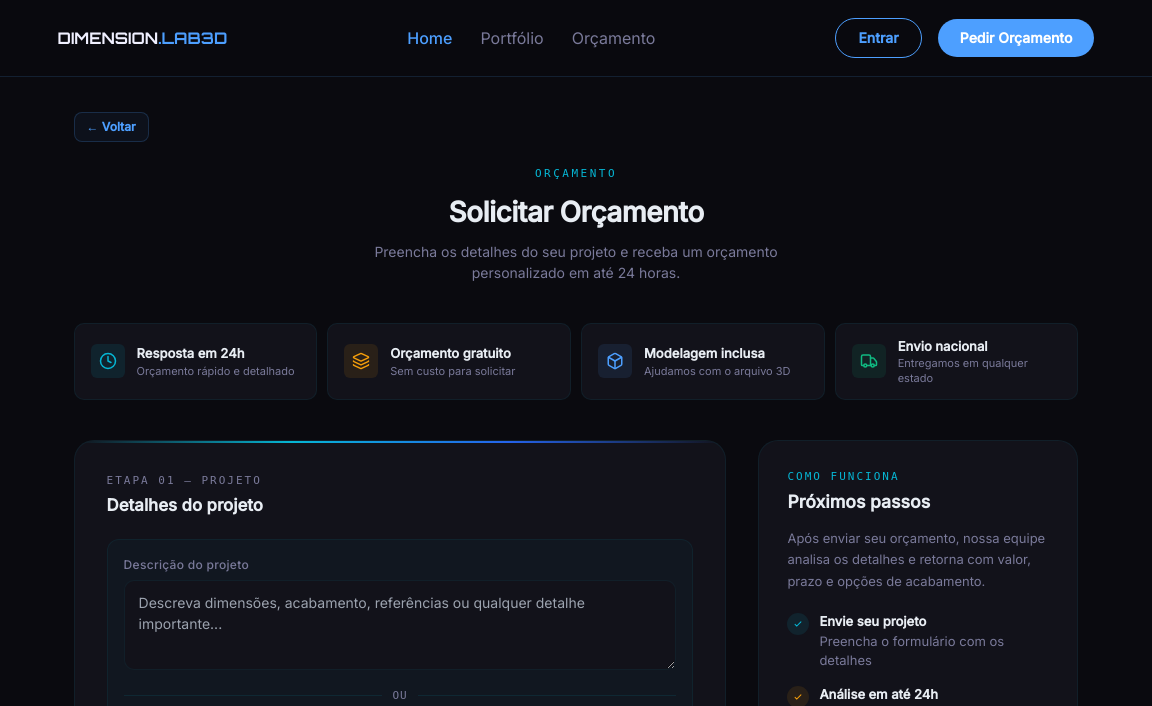
QuoteRequest page › shows error message when service throws
Type "A valid description here" into the text box labelled "Descrição do projeto" at (400, 625), box [124,580,676,670]
(page scrolled)
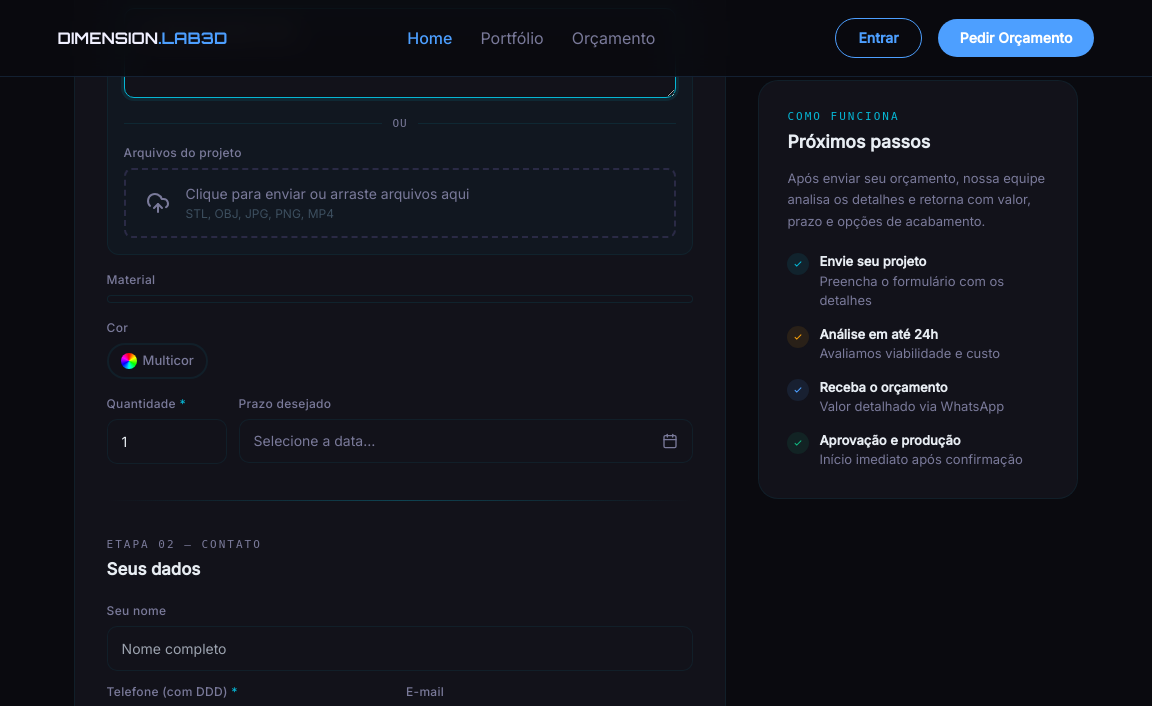
Click the button "Multicor" at (157, 361), box [107,343,208,379]
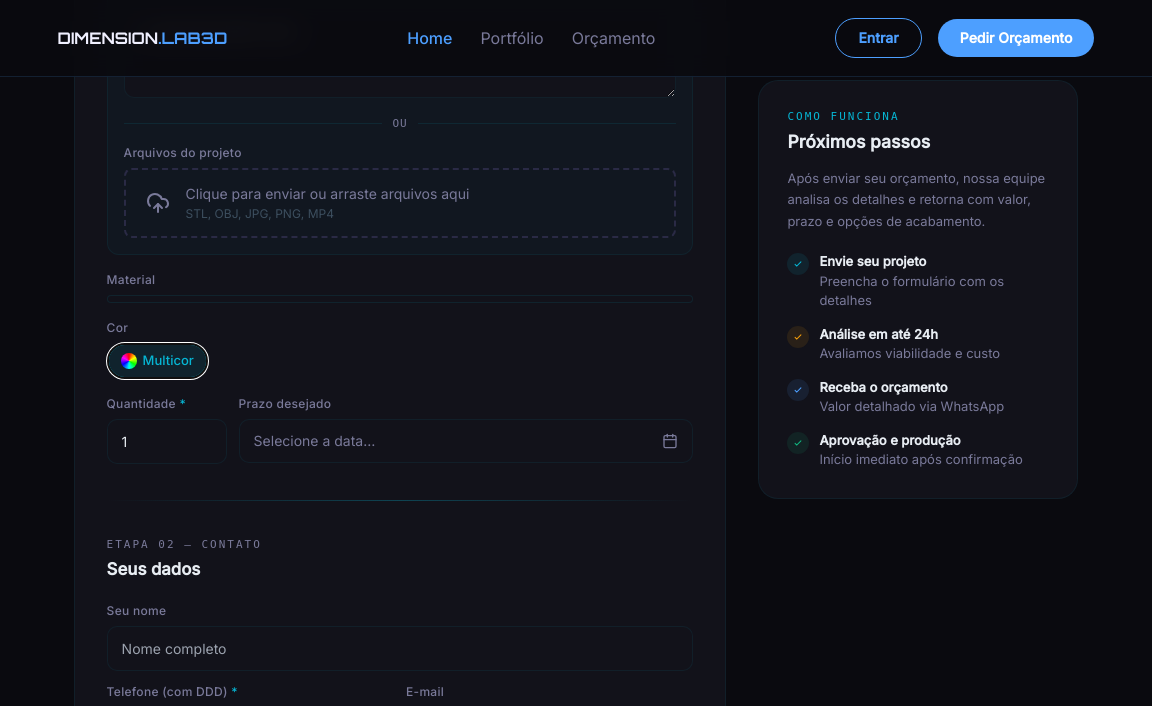
Type "Test User" into the field labelled "Seu nome" at (400, 649), box [107,626,693,671]
(page scrolled)
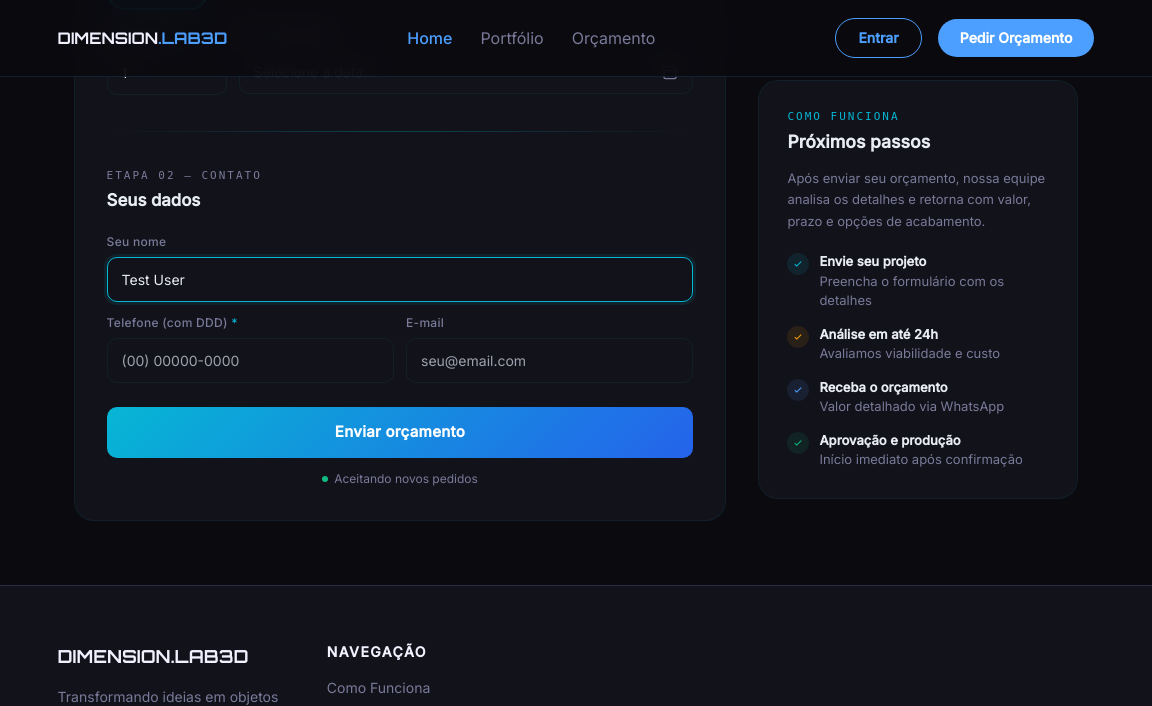
Type "test@test.com" into the field labelled "E-mail" at (550, 361), box [406,338,693,383]
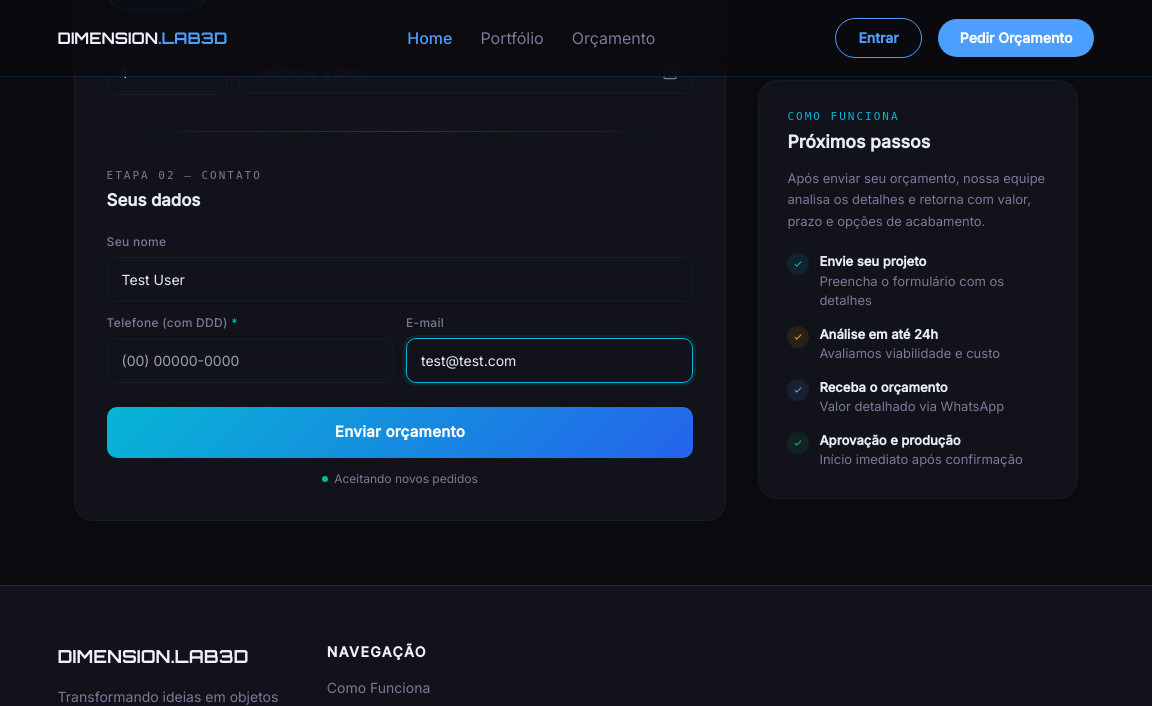
Type "(11) 99999-9999" into the field labelled "Telefone (com DDD) *" at (250, 361), box [107,338,394,383]
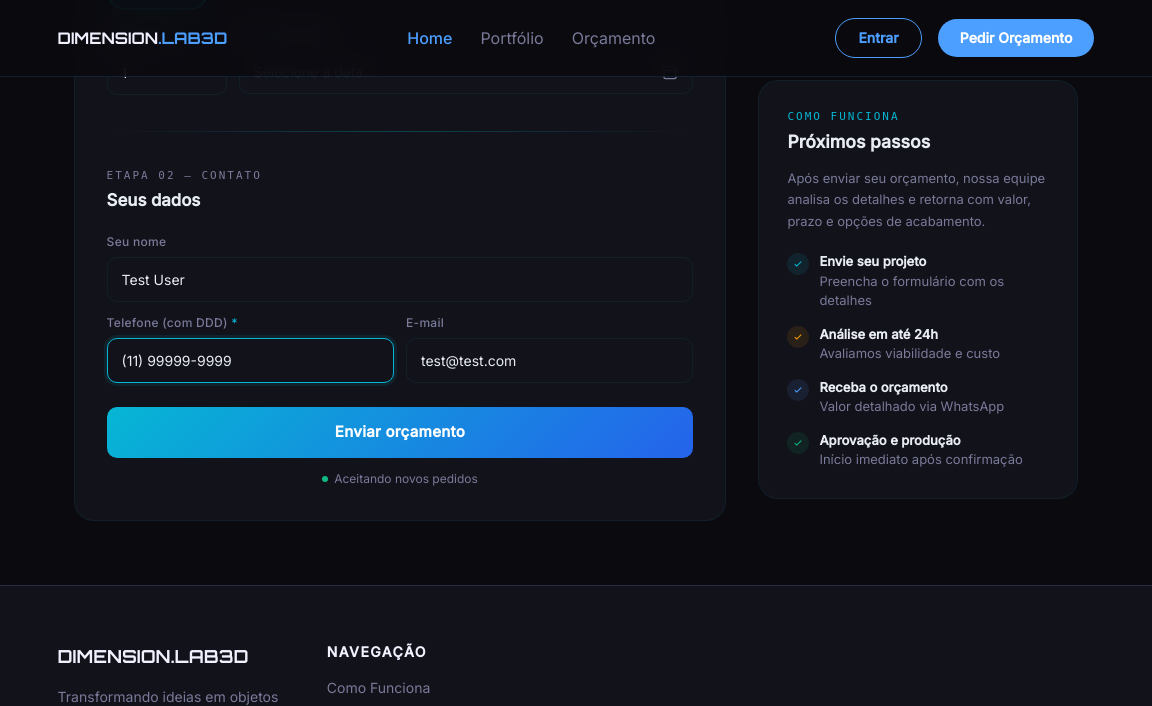
Click the button "Enviar orçamento" at (400, 433), box [107,407,693,458]
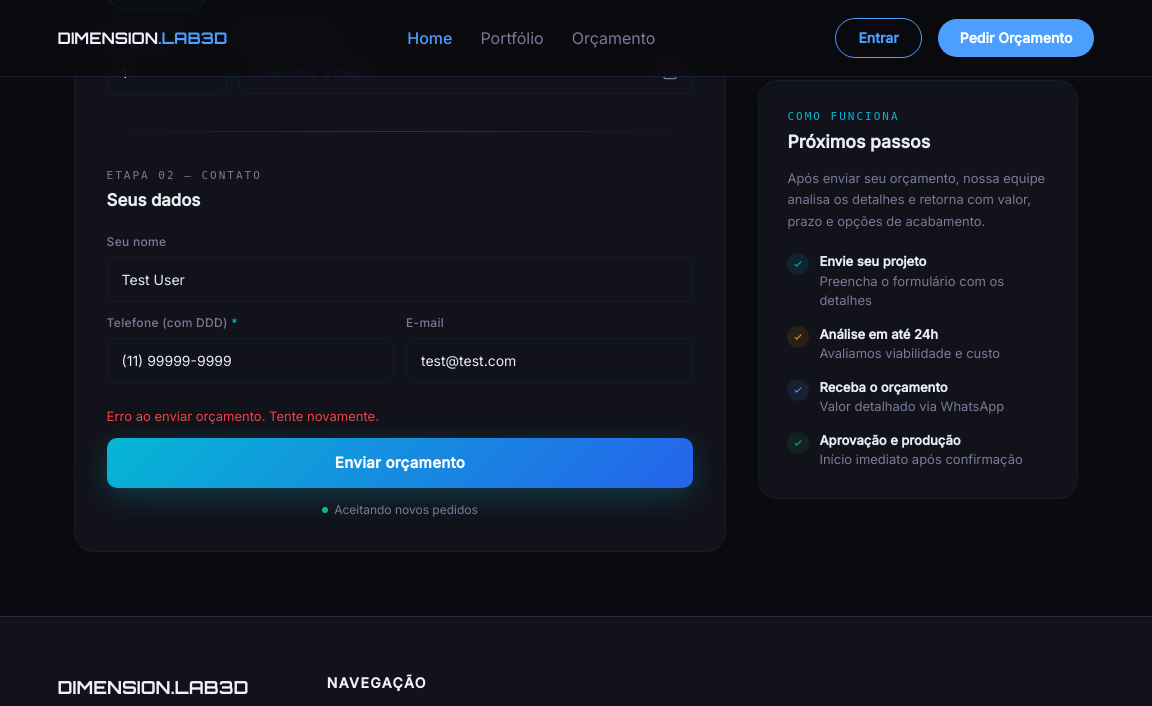
Expected: the text "Erro ao enviar orçamento. Tente novamente." is shown, [107,408,379,424]
